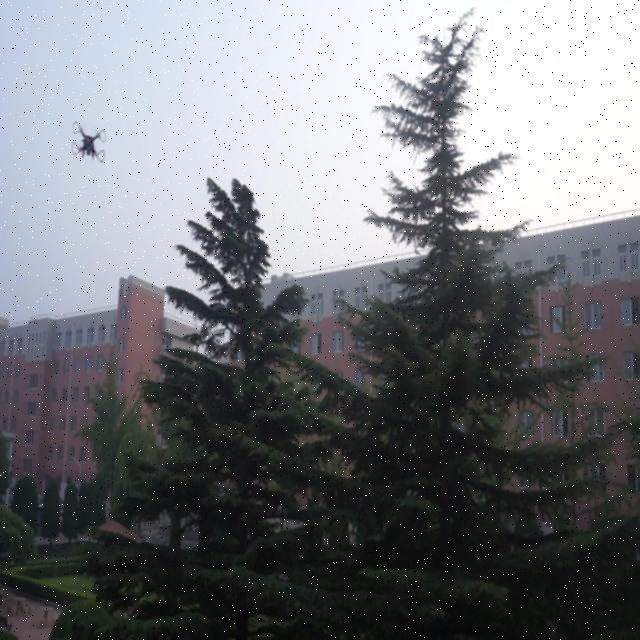UAV: (72, 121, 106, 163)
